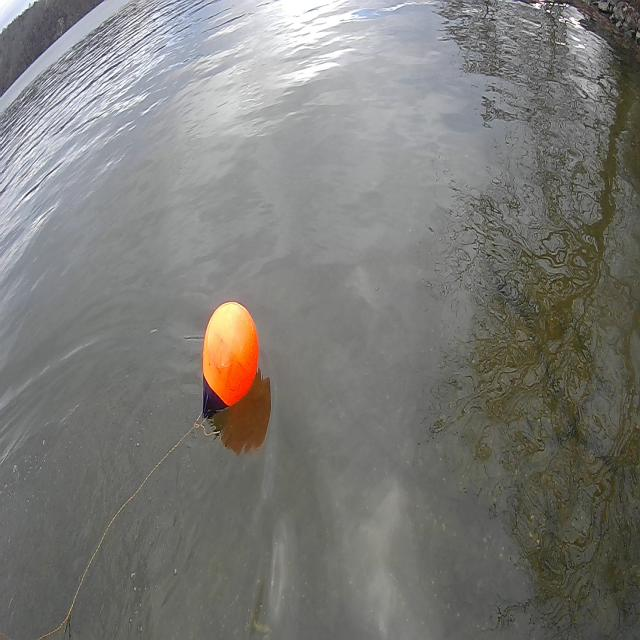Buoy: (187, 286, 272, 431)
